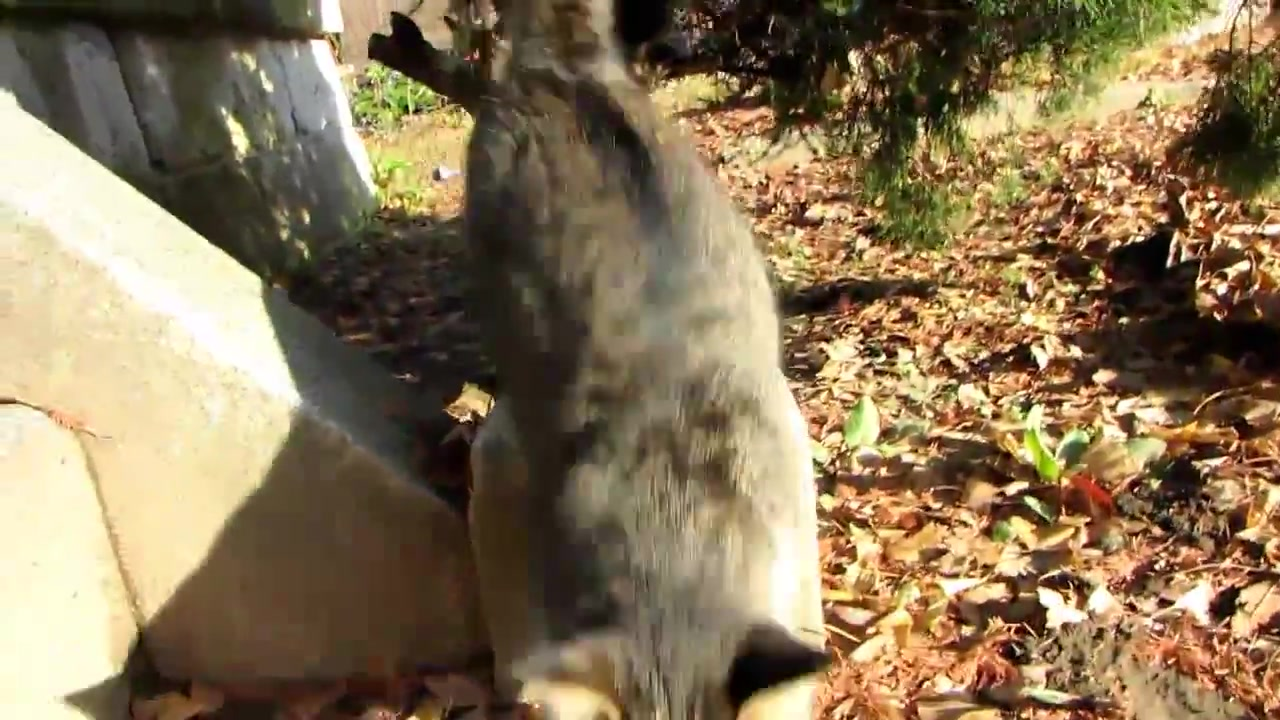cat: (459, 3, 835, 720)
